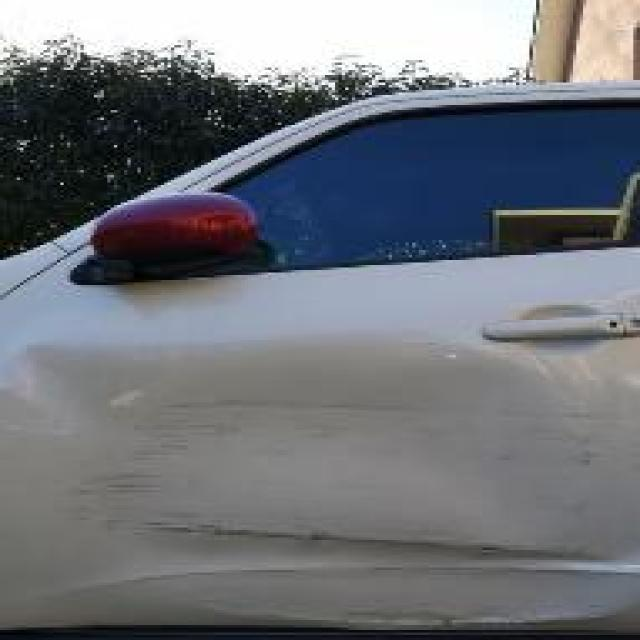Door: (67, 390, 640, 628)
